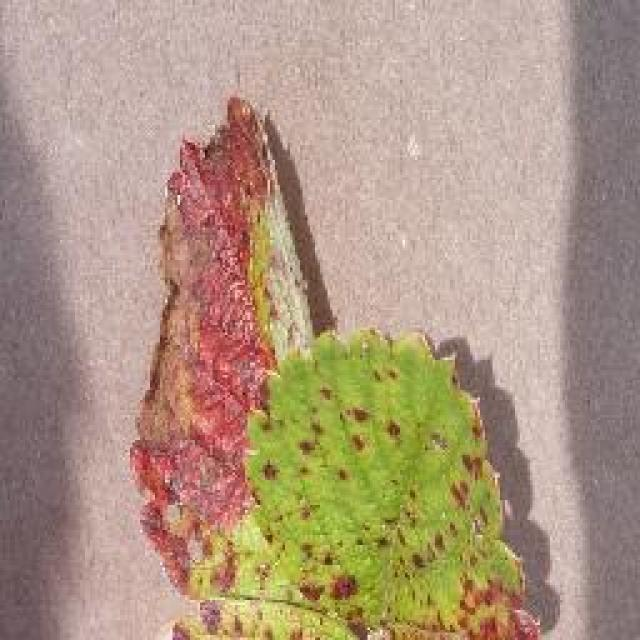Strawberry leaf scorch: (178, 182, 374, 620)
